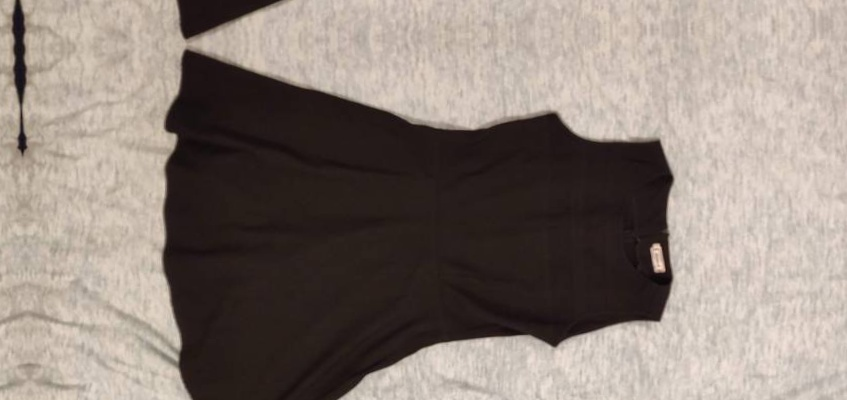Dress: (127, 78, 716, 400)
